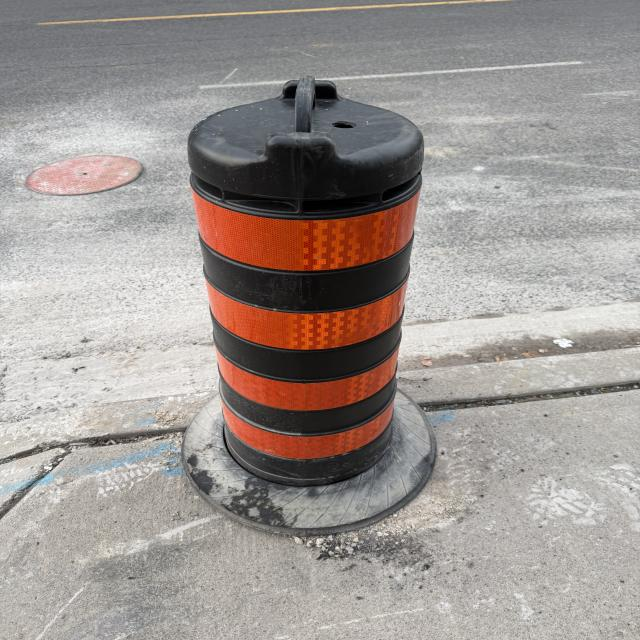Teraffic Barrel: (183, 76, 435, 533)
